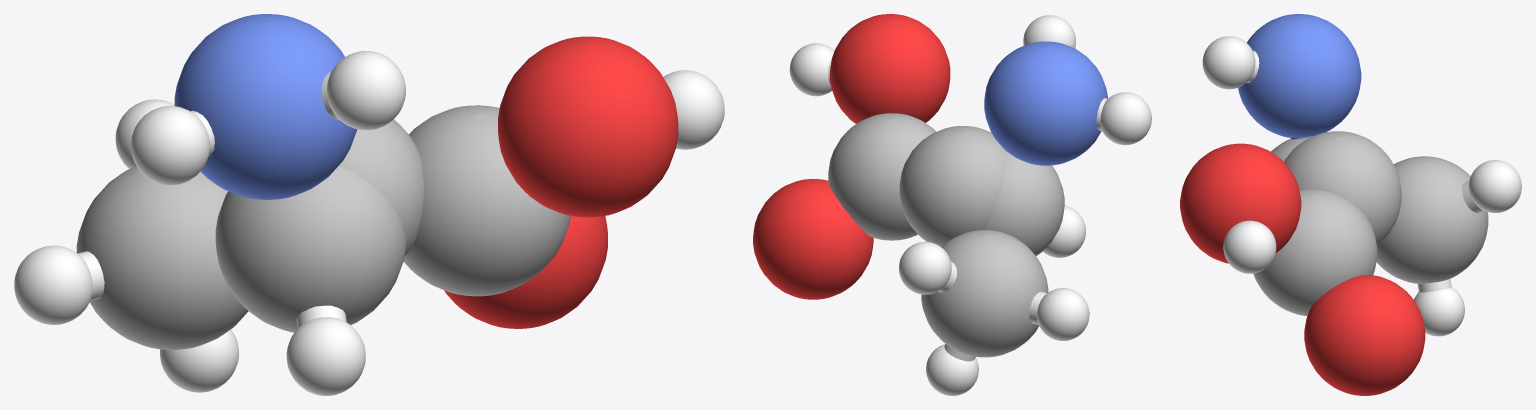
The model's file is Alanine.glb.
3 renders of one model, left to right at view 1: azimuth 30°, elevation 25°; view 2: azimuth 150°, elevation 25°; view 3: azimuth 270°, elevation 25°, orthographic. The views are drawn at different scales.
Visible parts, largest first — view 1: Carbon_ball (×5), Oxygen_ball (×3), Hydrogen_ball (×7), Nitrogen_ball; view 2: Carbon_ball (×4), Oxygen_ball (×2), Hydrogen_ball (×7), Nitrogen_ball; view 3: Carbon_ball (×5), Oxygen_ball (×3), Nitrogen_ball, Hydrogen_ball (×4).
Part boxes in pixels (x1,y1,x2,y2): Carbon_ball (×5): (76,105,570,349); Oxygen_ball (×3): (444,36,678,328); Hydrogen_ball (×7): (14,51,724,395); Nitrogen_ball: (174,14,357,199); Carbon_ball (×4): (828,113,1064,357); Oxygen_ball (×2): (753,14,950,299); Hydrogen_ball (×7): (789,15,1151,395); Nitrogen_ball: (984,41,1107,165); Carbon_ball (×5): (1253,131,1488,315); Oxygen_ball (×3): (1180,143,1425,395); Nitrogen_ball: (1238,14,1361,137); Hydrogen_ball (×4): (1202,36,1521,336).
Size of the model in its own units: 5.29 by 4.01 by 4.11.
